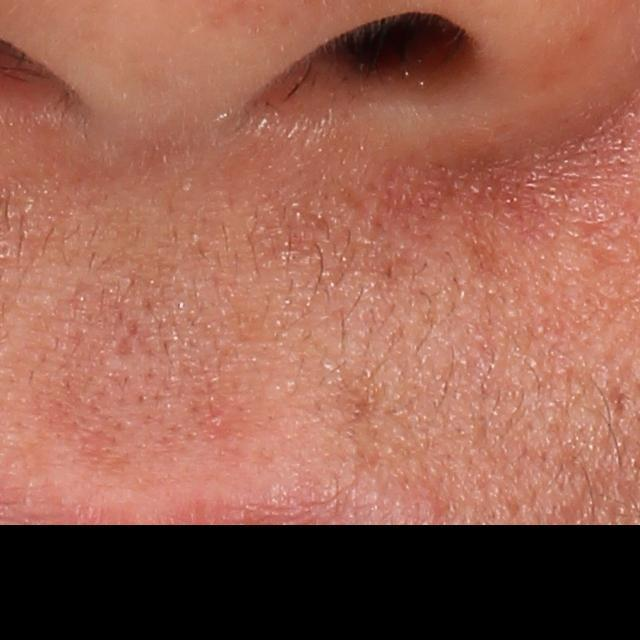atrophic_scar: (112, 333, 135, 361)
